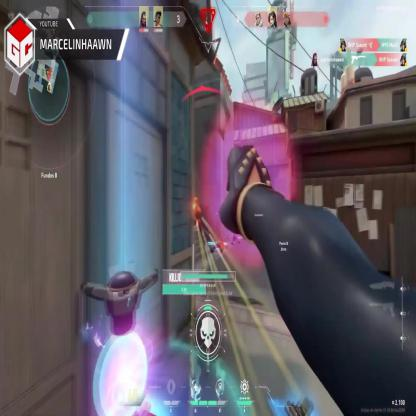enemy: (192, 194, 200, 232)
enemy_head: (194, 196, 198, 204)
